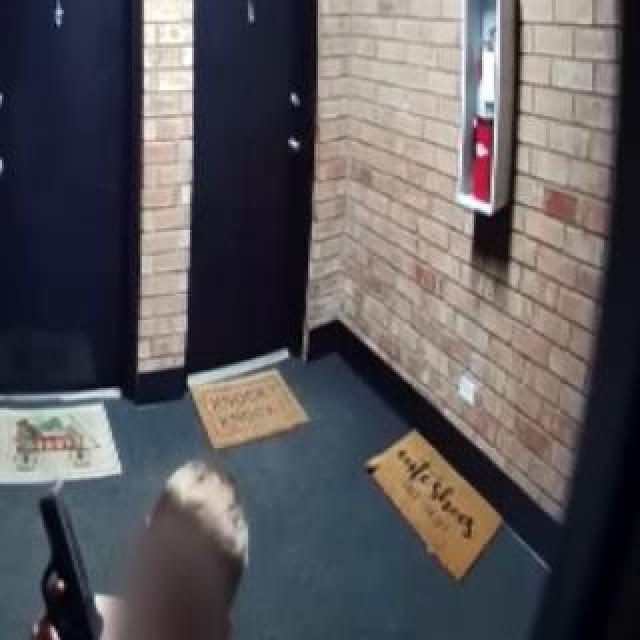Guns: (5, 473, 126, 640)
